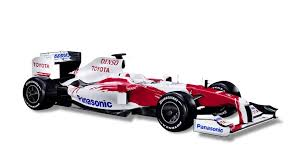FormulaOneCar: (18, 44, 282, 139)
